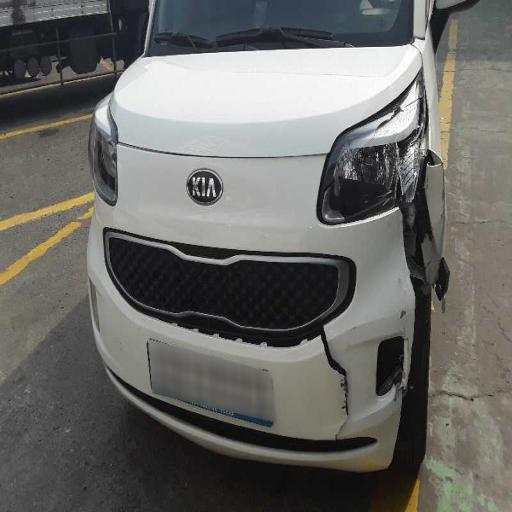broken: (351, 161, 462, 313), (280, 319, 378, 456)
